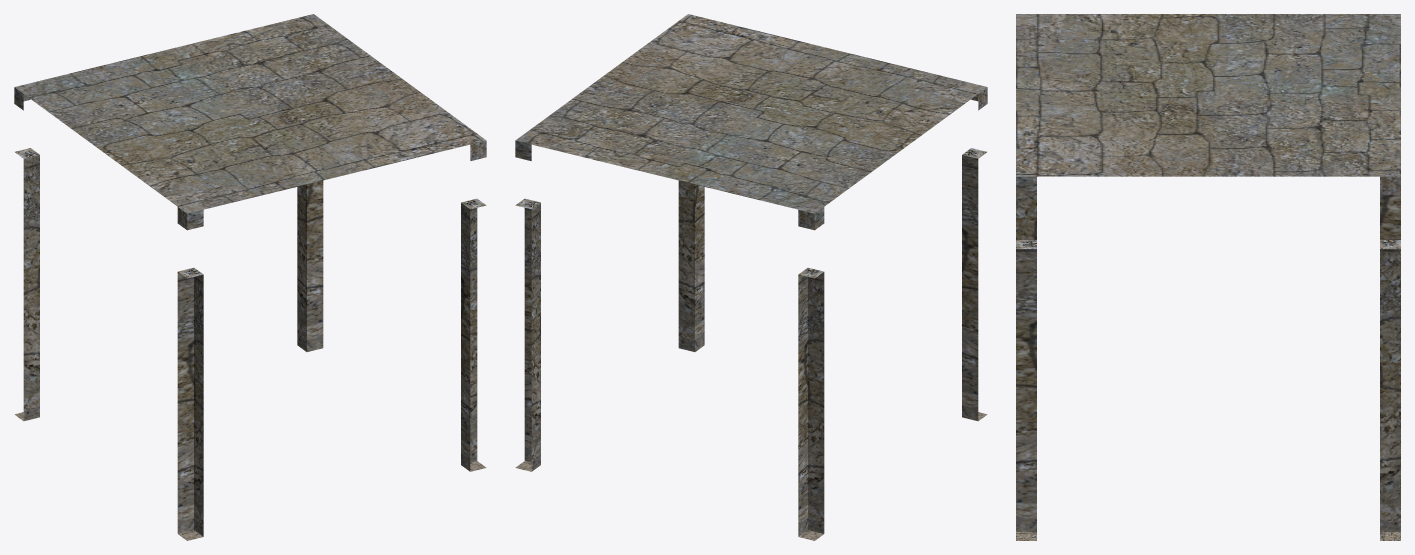
File: Section17.FBX
The picture shows the model from 3 angles, left to right: view 1: azimuth 30°, elevation 25°; view 2: azimuth 150°, elevation 25°; view 3: azimuth 270°, elevation 25°; orthographic projection. The views are drawn at different scales.
Visible parts, largest first — view 1: ClaimedCo101; view 2: ClaimedCo101; view 3: ClaimedCo101.
Boxes of the visible parts, x1=… form: ClaimedCo101: x1=14, y1=14, x2=486, y2=540; ClaimedCo101: x1=515, y1=14, x2=987, y2=540; ClaimedCo101: x1=1016, y1=14, x2=1400, y2=540.
Size of the model in its own units: 100 by 104 by 100.
